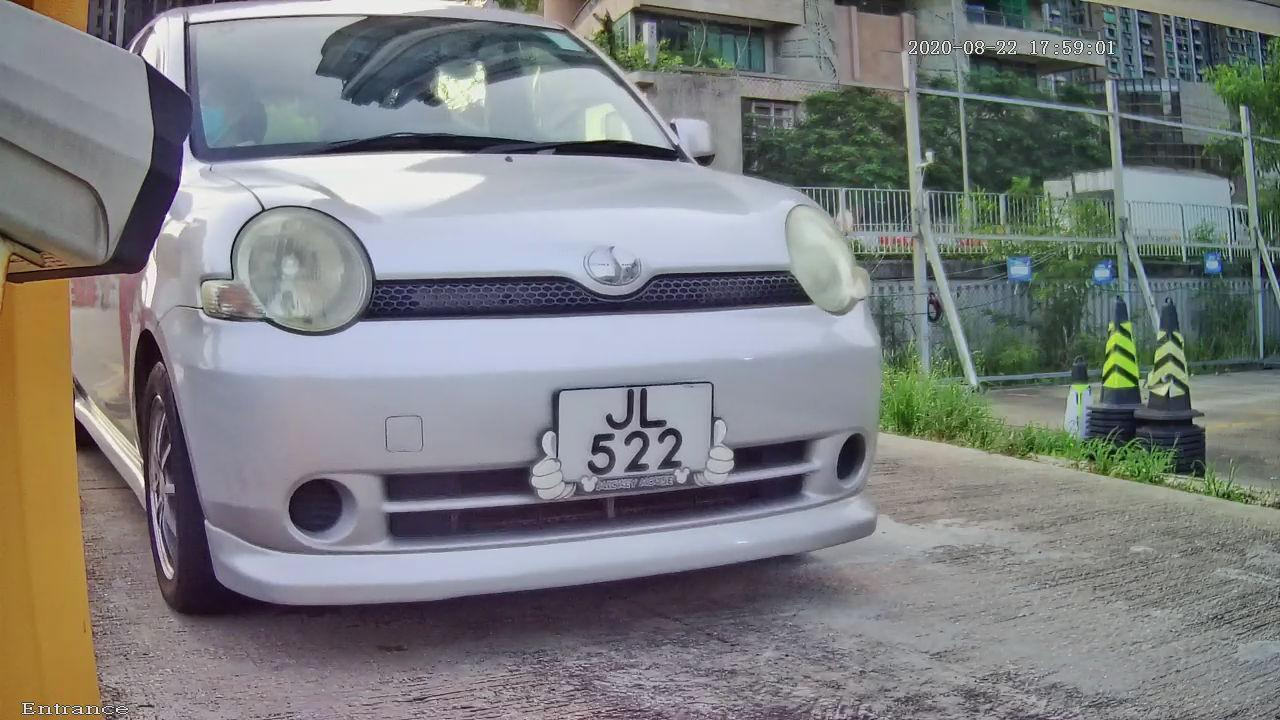License Plate: (521, 370, 743, 512)
